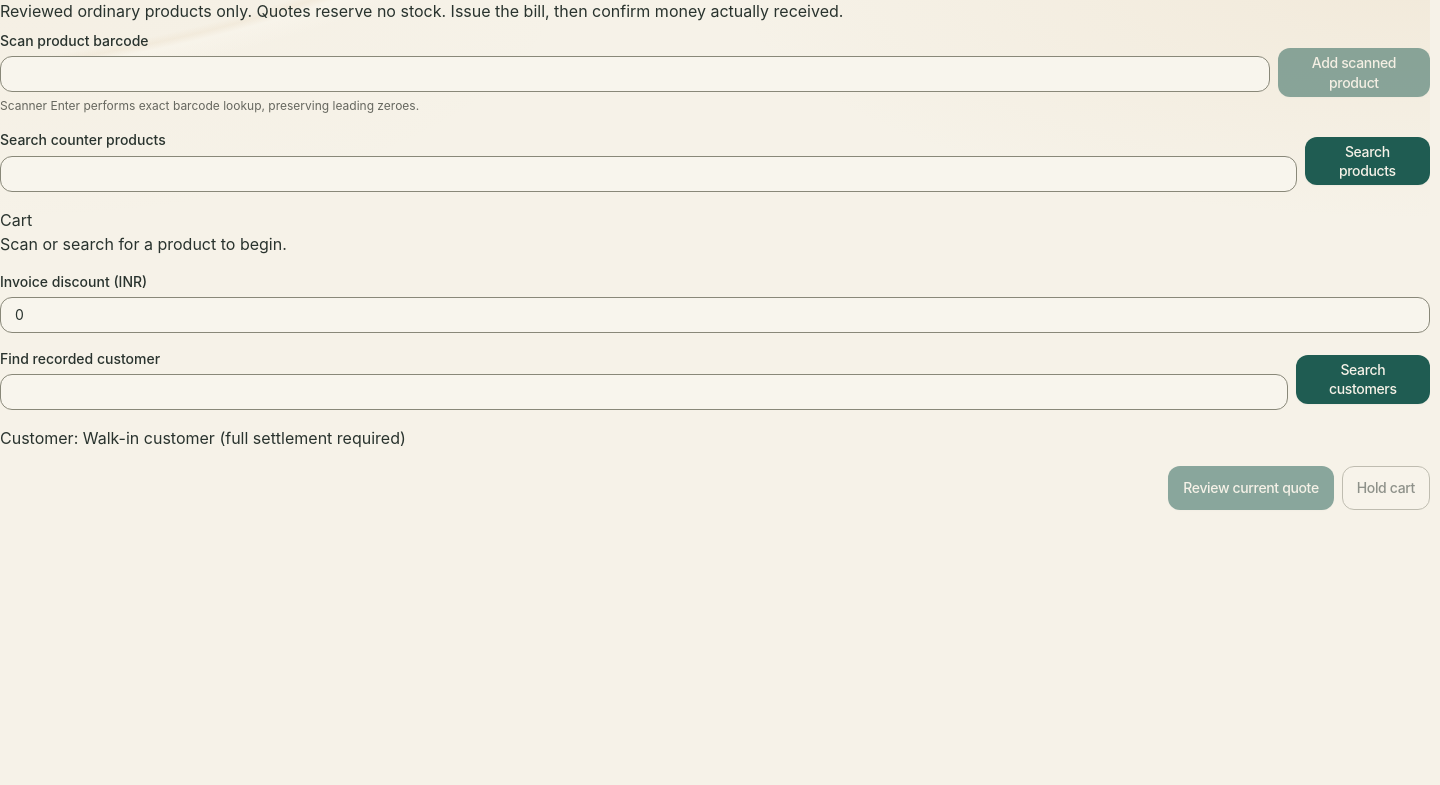
Scenario: selects an existing customer through sales lookup and sends only its identity to the quote
Type "000123" into the field labelled "Scan product barcode". click: (635, 74)
box: [0,56,1270,92]
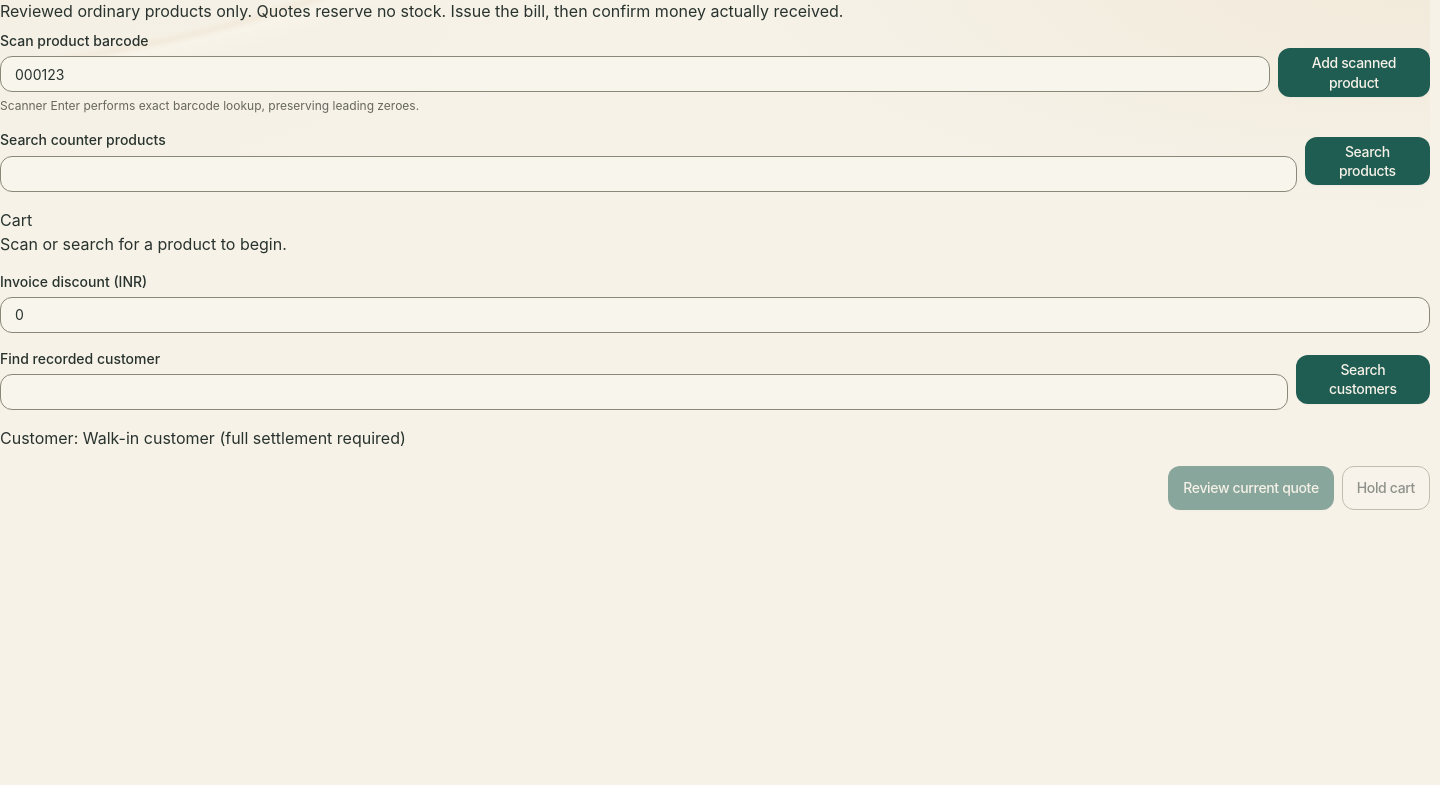
Submit the form labelled "Scan product barcode", box [0,31,1430,114]
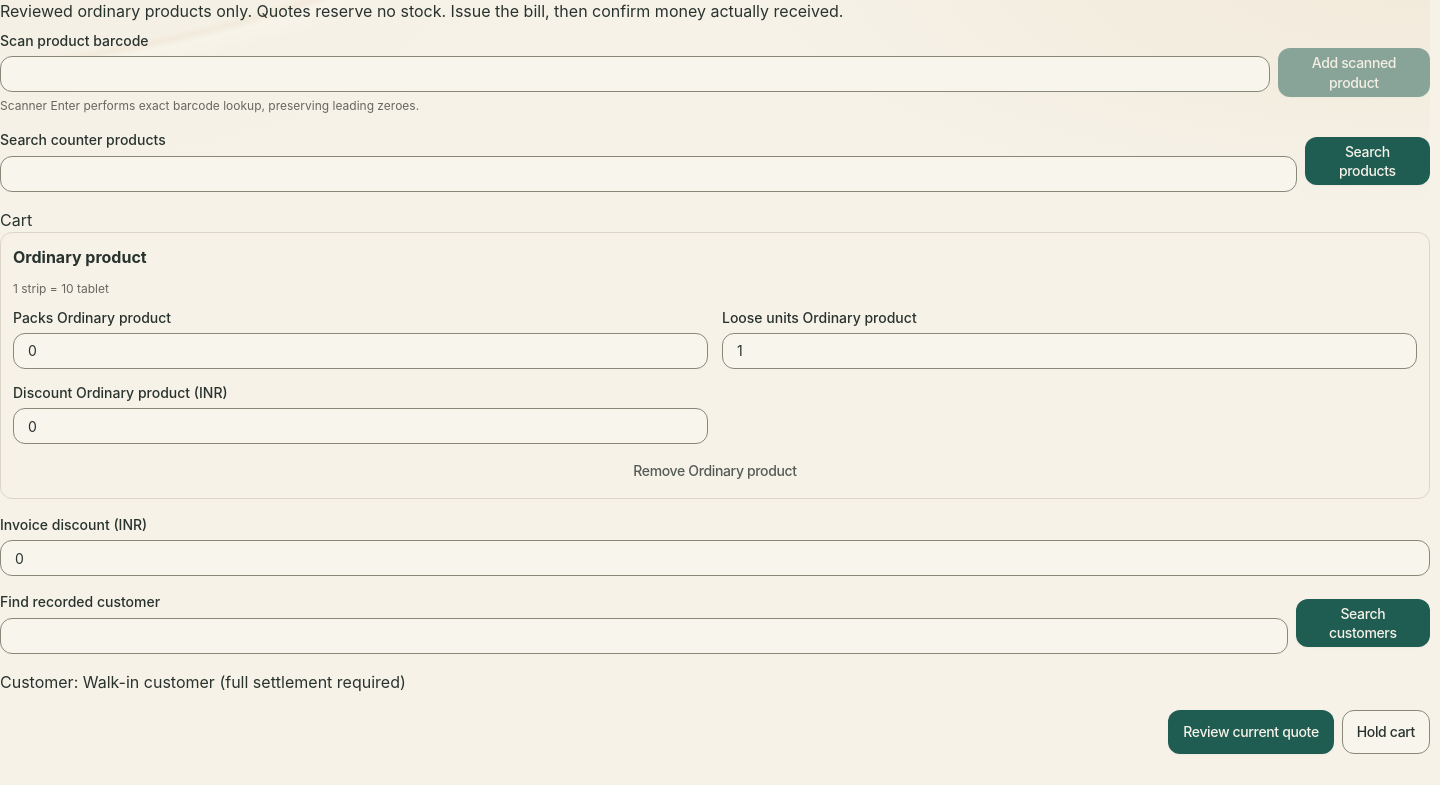
Expected: the number field labelled "Loose units Ordinary product" is shown, [722,333,1417,369]
Type "Actual" into the field labelled "Find recorded customer". click: (644, 636)
box: [0,618,1288,654]
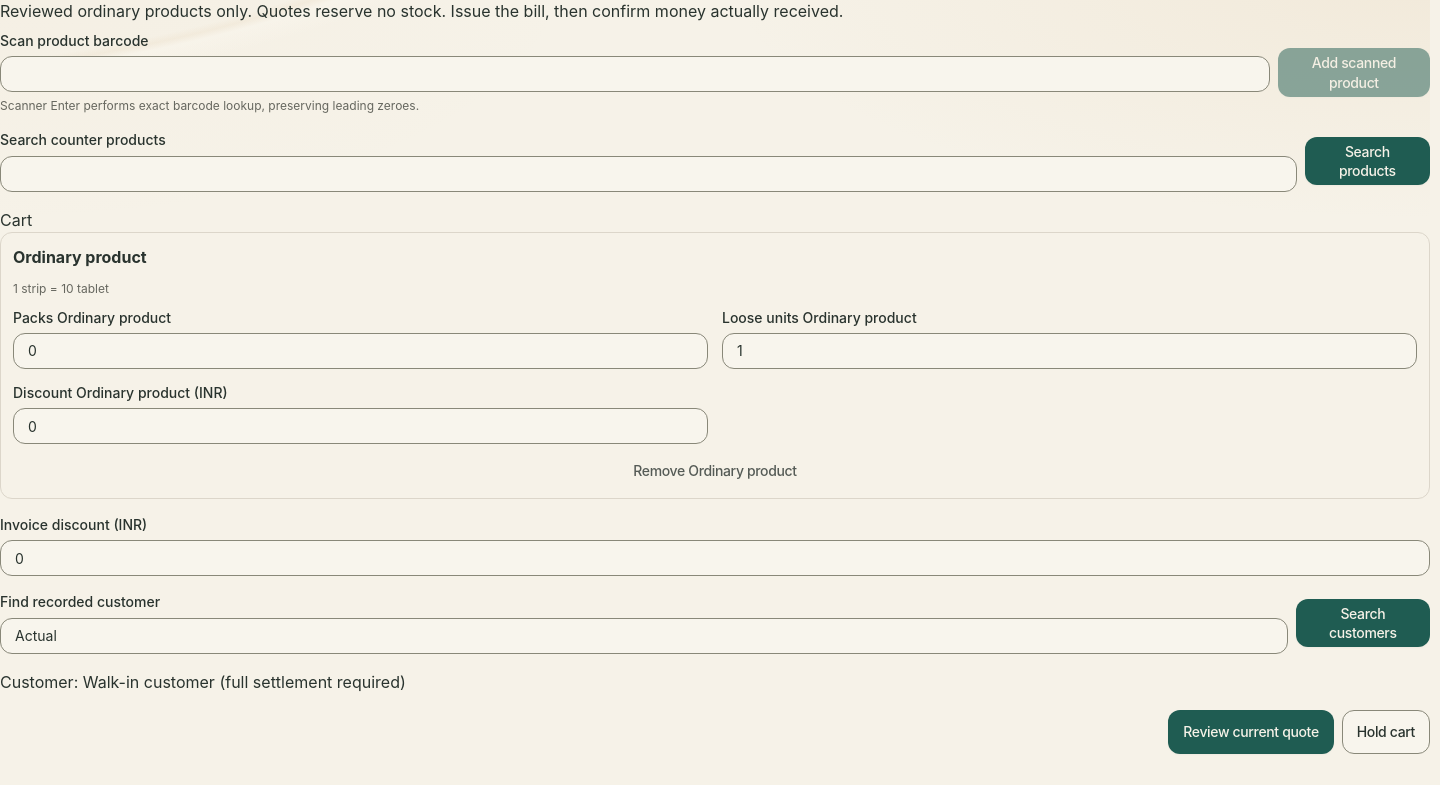
Click the button "Search customers". click: (1363, 623)
box: [1296,599,1430,647]
(page scrolled)
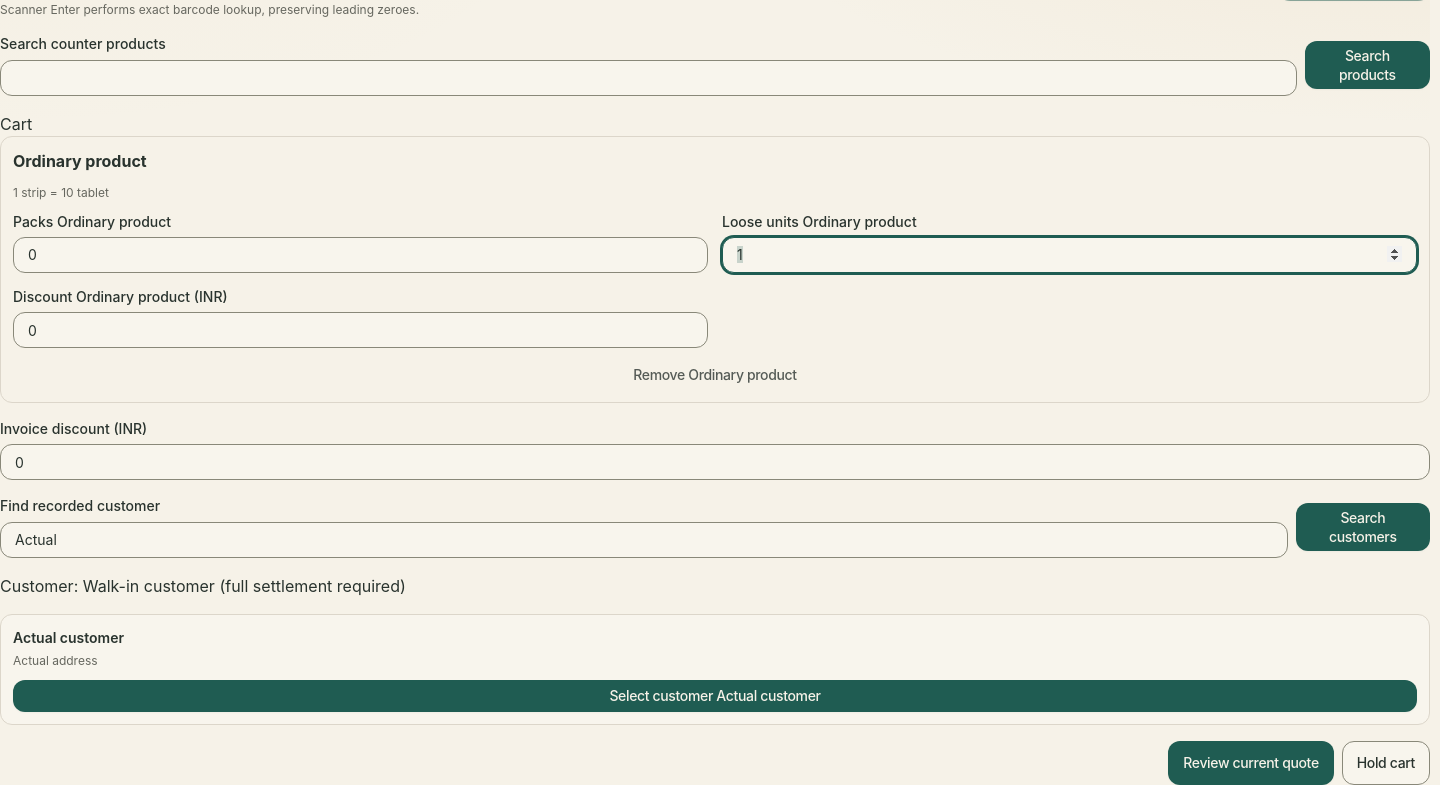
Click the button "Select customer Actual customer". click: (715, 696)
box: [13,680,1417,712]
(page scrolled)
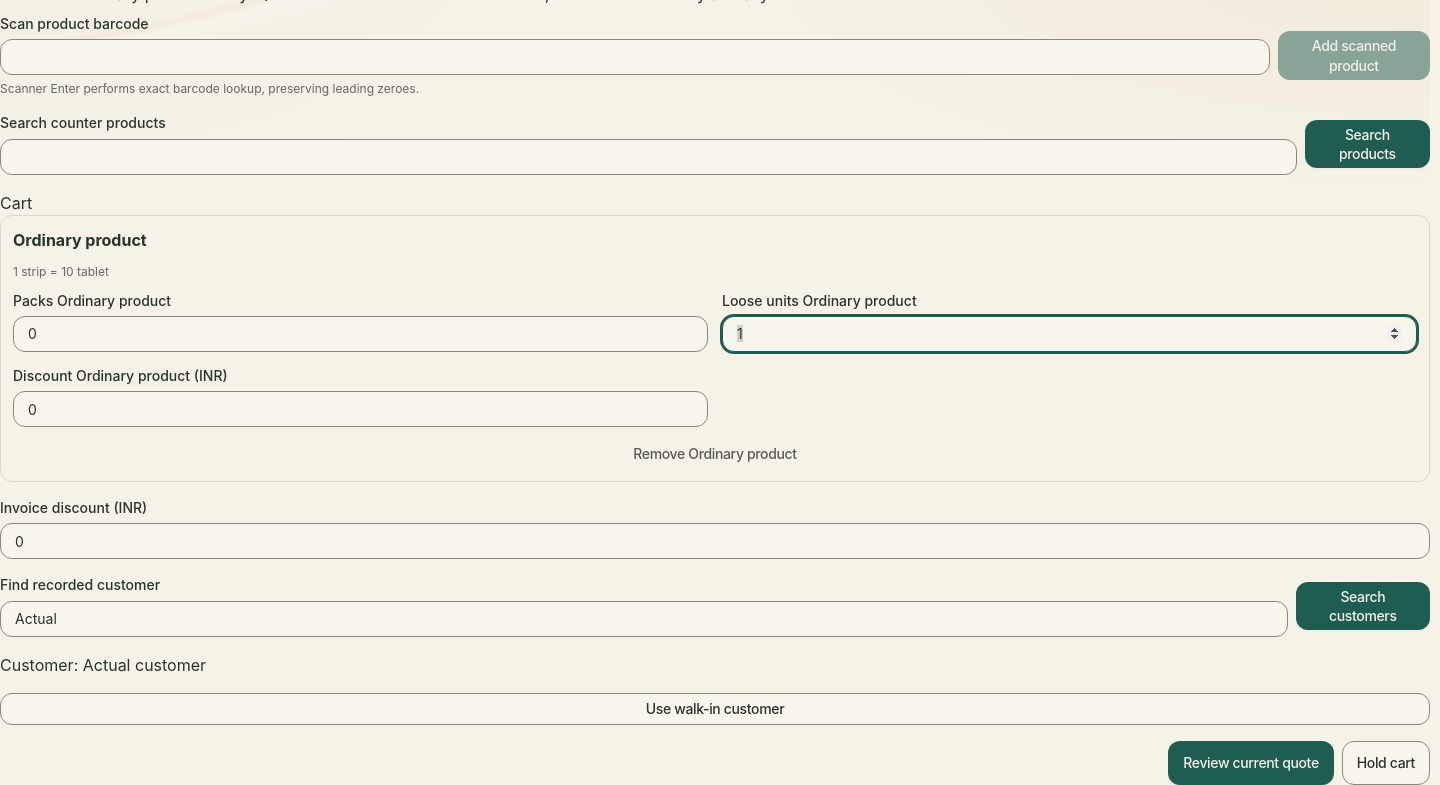
Click the button "Review current quote". click: (1251, 763)
box: [1168,741,1334,784]
(page scrolled)
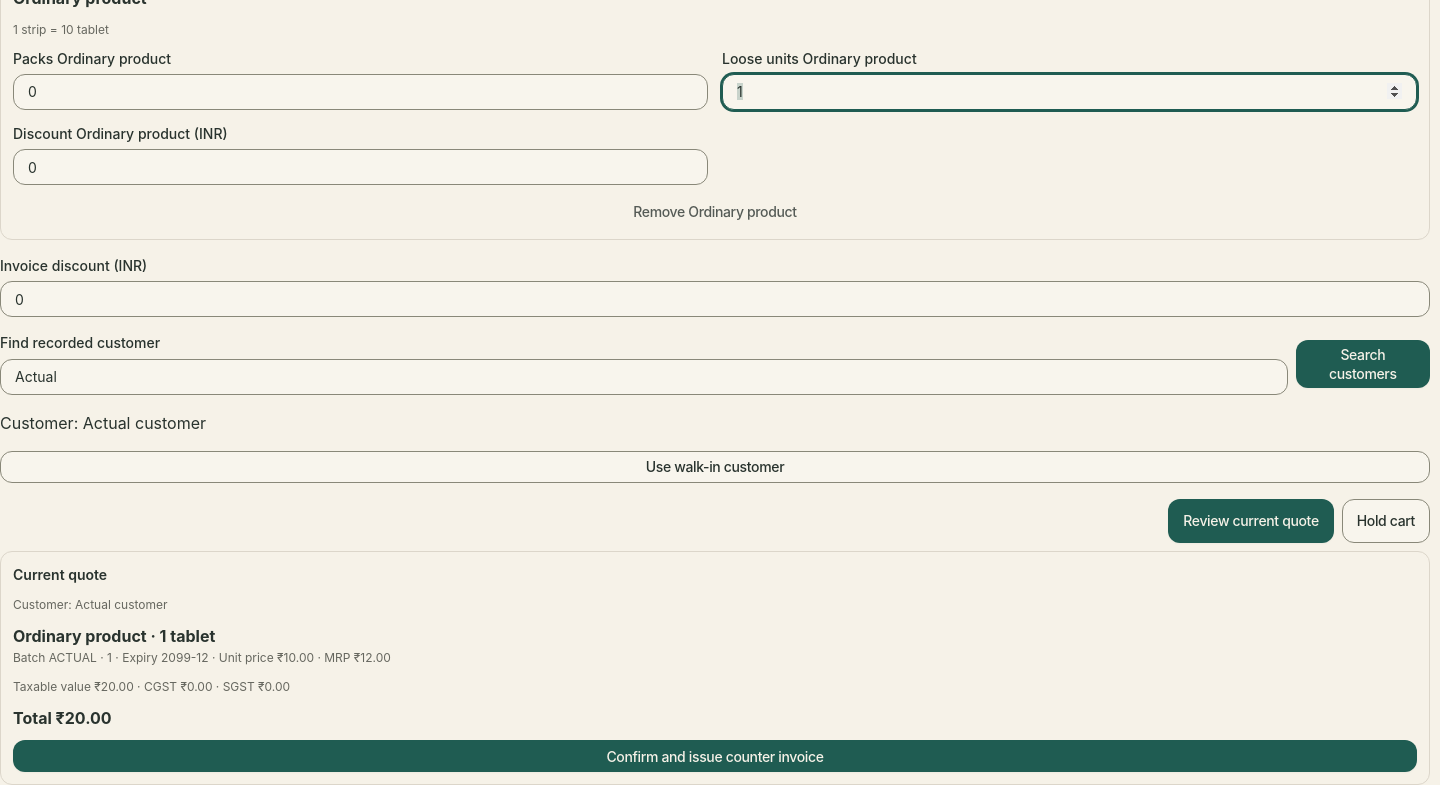
Expected: the element named "Trusted counter quote" is shown, [0,551,1430,784]
